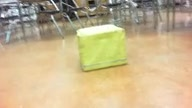cube: (76, 24, 127, 72)
